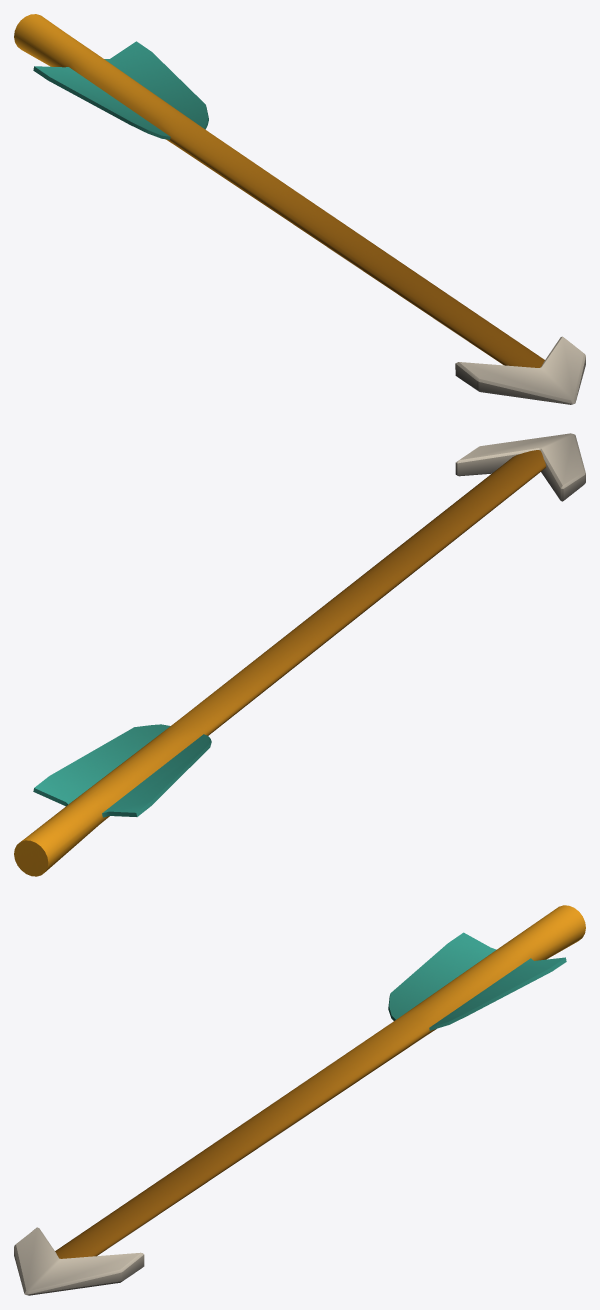
The model's file is nuoli.fbx.
3 renders of one model, top to bottom at view 1: azimuth 30°, elevation 25°; view 2: azimuth 150°, elevation 25°; view 3: azimuth 330°, elevation 25°, orthographic.
Parts seen in each view (by area): view 1: nuoli1; view 2: nuoli1; view 3: nuoli1.
Part boxes in pixels (<box>): nuoli1: <box>14,14,585,404</box>; nuoli1: <box>14,433,585,876</box>; nuoli1: <box>14,905,585,1295</box>.
Size of the model in its own units: 0.0224 by 0.011 by 0.1953.
